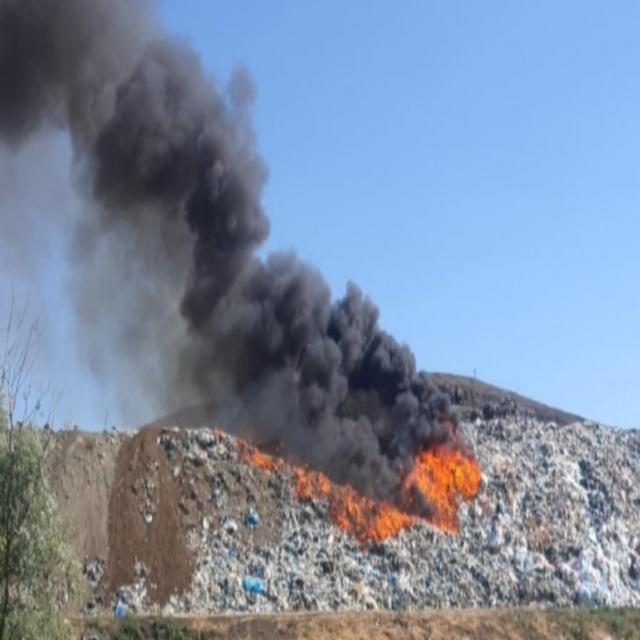Fire: (406, 446, 491, 528)
Smoke: (4, 12, 469, 514)
